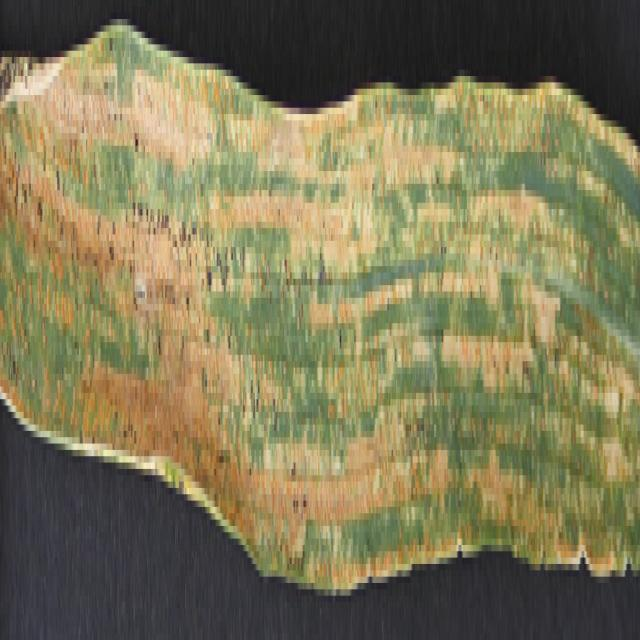leaf rust: (1, 6, 637, 552)
